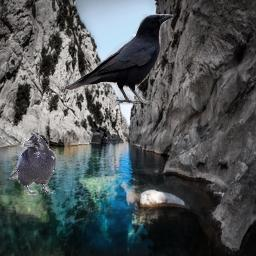Crow: (64, 14, 173, 105), (9, 134, 56, 195)
